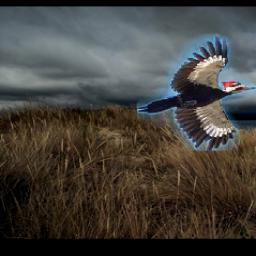Woodpecker: (137, 34, 256, 152)
